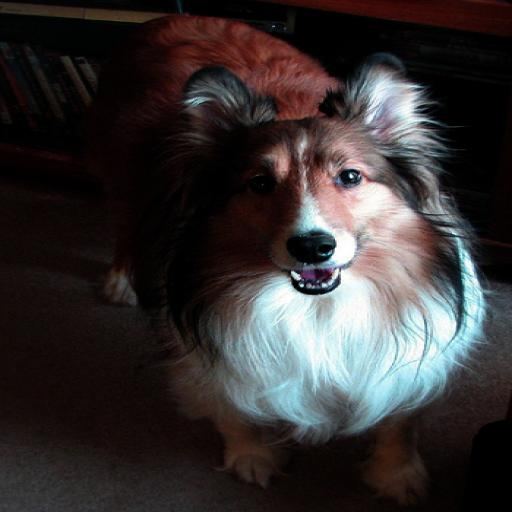dog_face: (184, 60, 436, 304)
